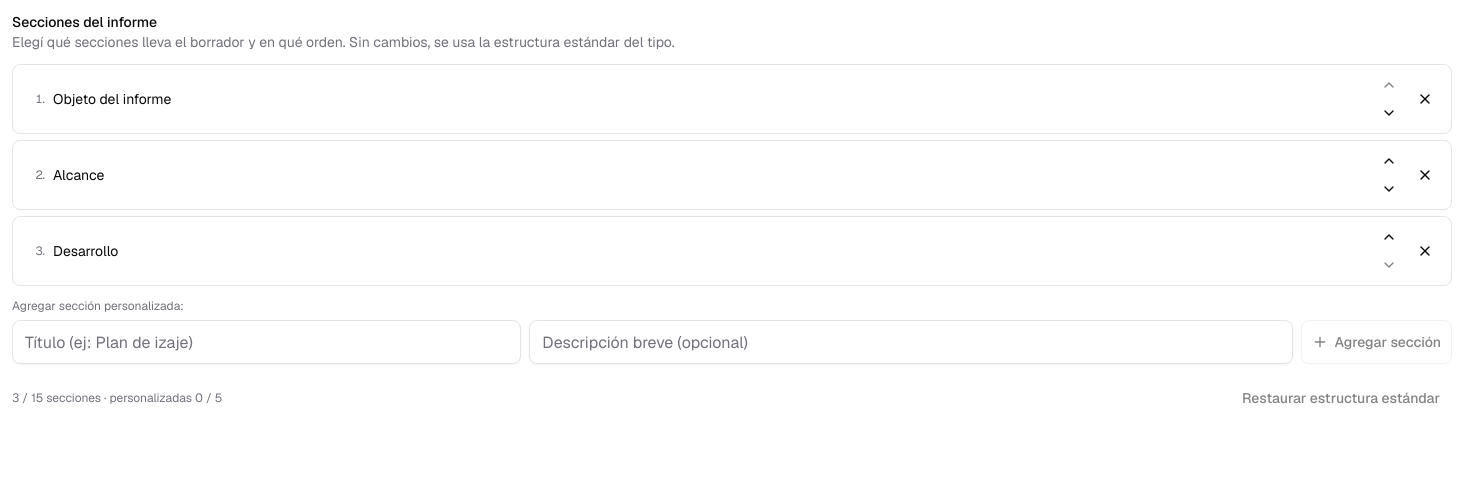
Test: SeccionesConfigField › agrega seccion custom con titulo + descripcion; el boton exige titulo >= 3 chars
The width and height of the screenshot is (1464, 499).
Expected: the button "Agregar sección" is disabled, [1301,320,1452,364]
Type "Plan de izaje" into the field named "Título de la sección personalizada" at x=267, y=342, box [12,320,521,364]
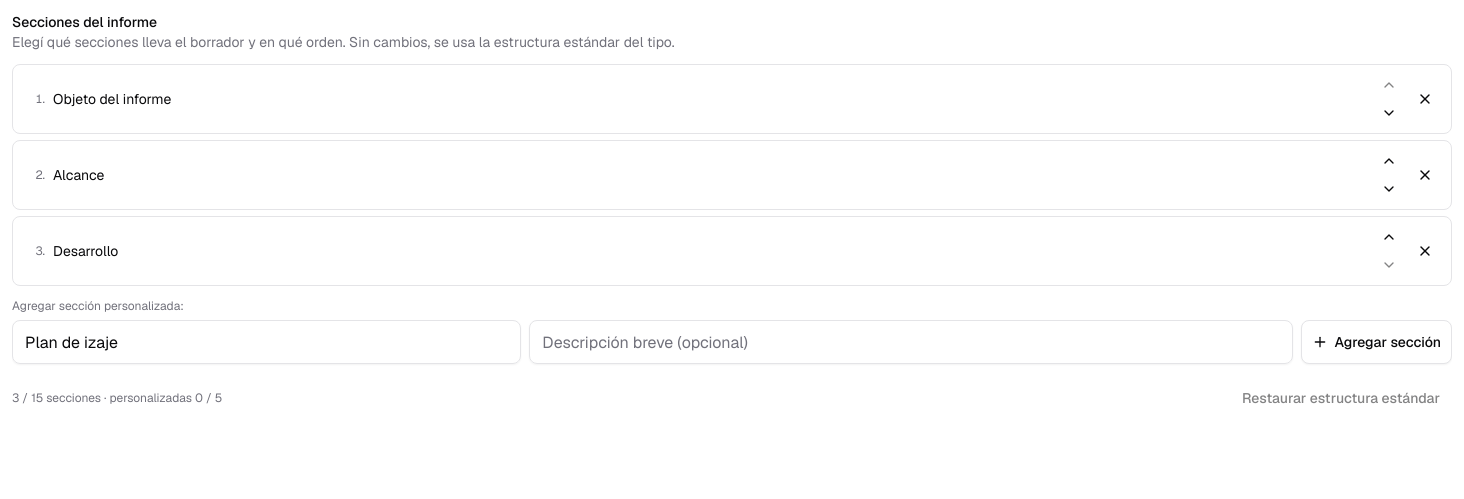
Type "Secuencia y señalero" into the field named "Descripción de la sección personalizada" at x=911, y=342, box [529,320,1293,364]
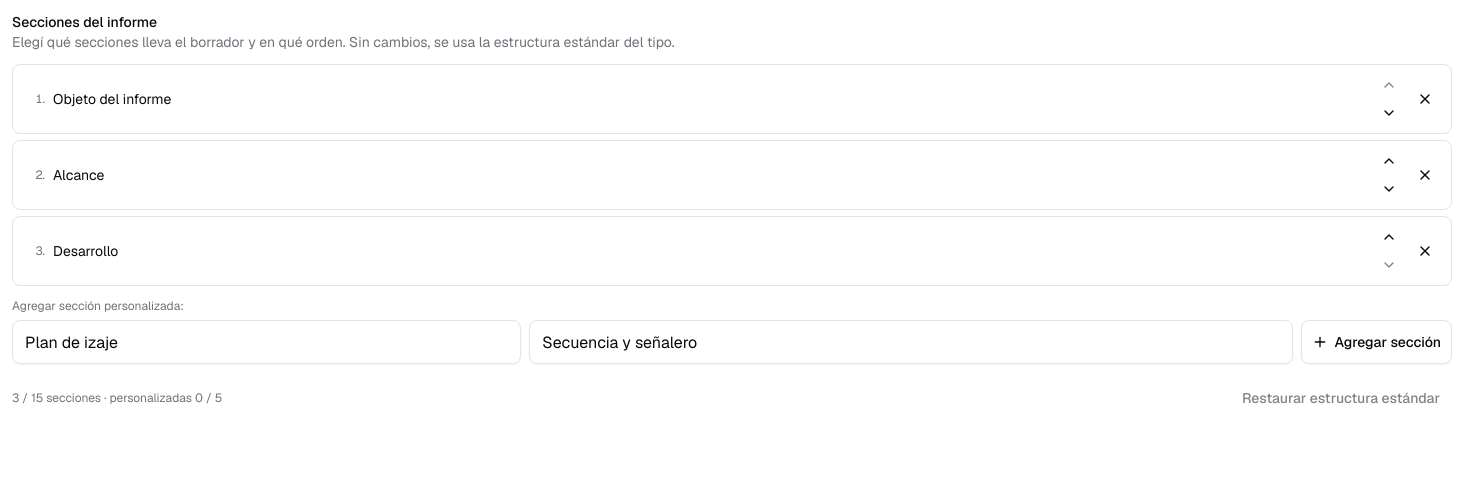
Result: the button "Agregar sección" is enabled
Click the button "Agregar sección" at x=1377, y=342, box [1301,320,1452,364]
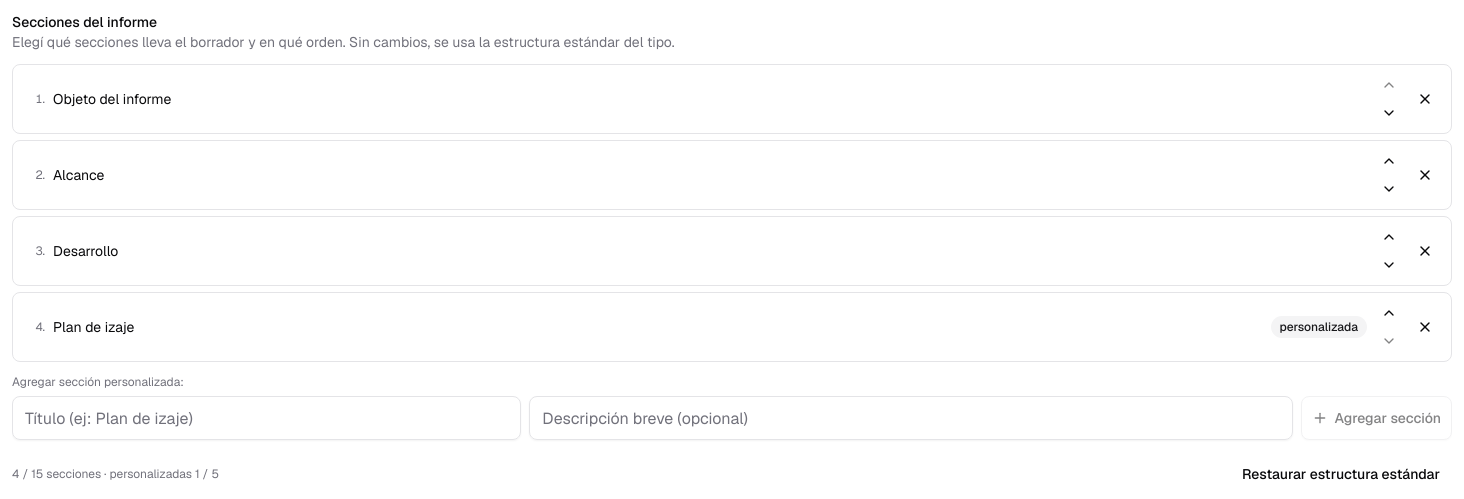
Result: the text "personalizada" is shown at [1271,316,1367,338]
Result: the text "4 / 15 secciones · personalizadas 1 / 5" is shown at [12,466,219,482]
Result: the field named "Título de la sección personalizada" is empty at [12,396,521,440]
